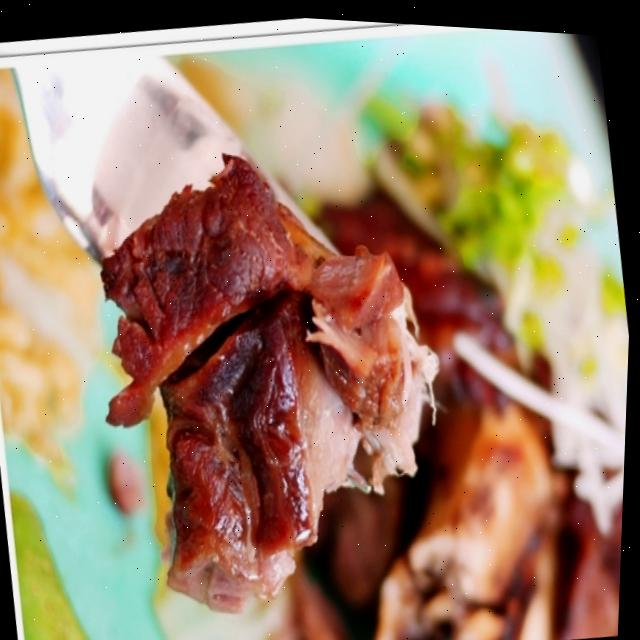熟制海鲜: (1, 19, 639, 640)
